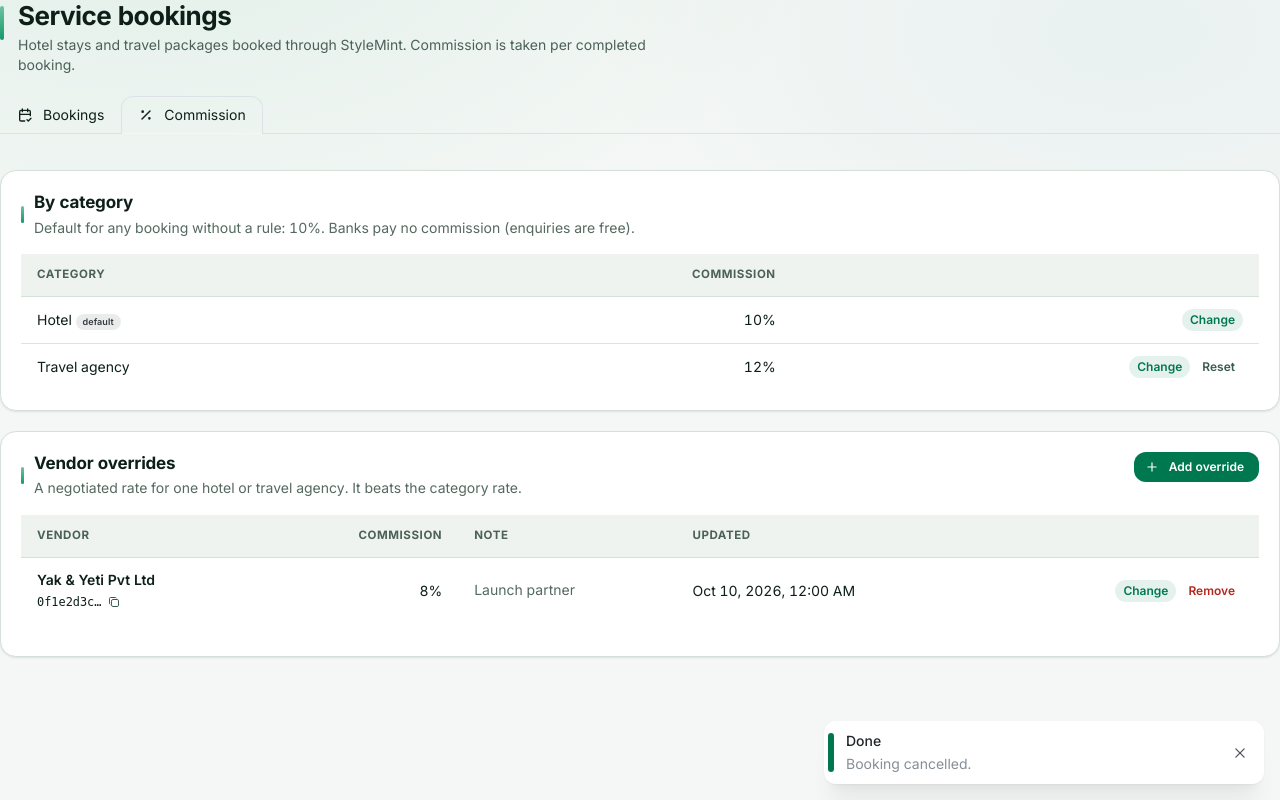
commission settings › shows the category rates and vendor overrides and changes a category
Check: the row with test id "commission-category-1" shows "Hotel", box [37, 311, 72, 328]
Check: the row with test id "commission-category-1" shows "10%", box [21, 296, 1259, 343]
Click the 1st button "Change" at (1212, 320), box [1182, 309, 1243, 331]
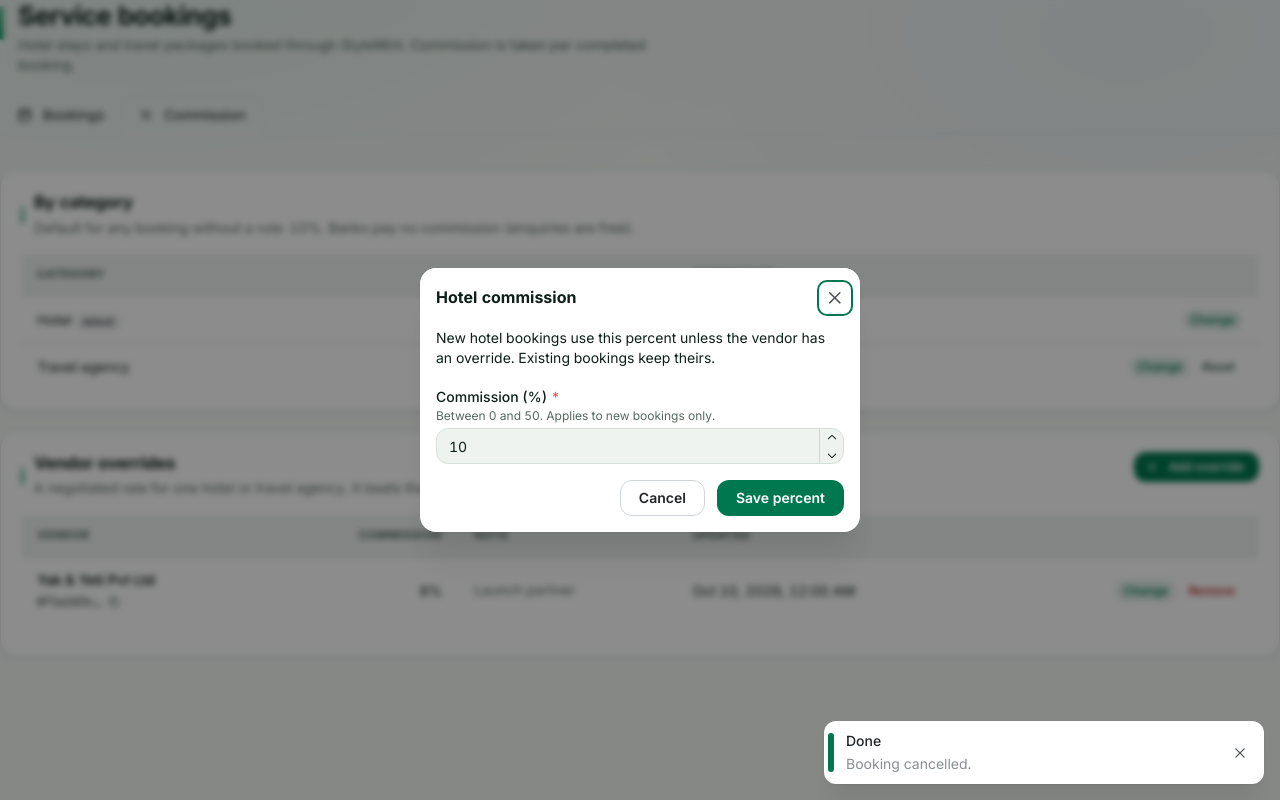
Replace the text in the field labelled "Commission (%) *" with "12" at (640, 446), box [436, 428, 844, 464]
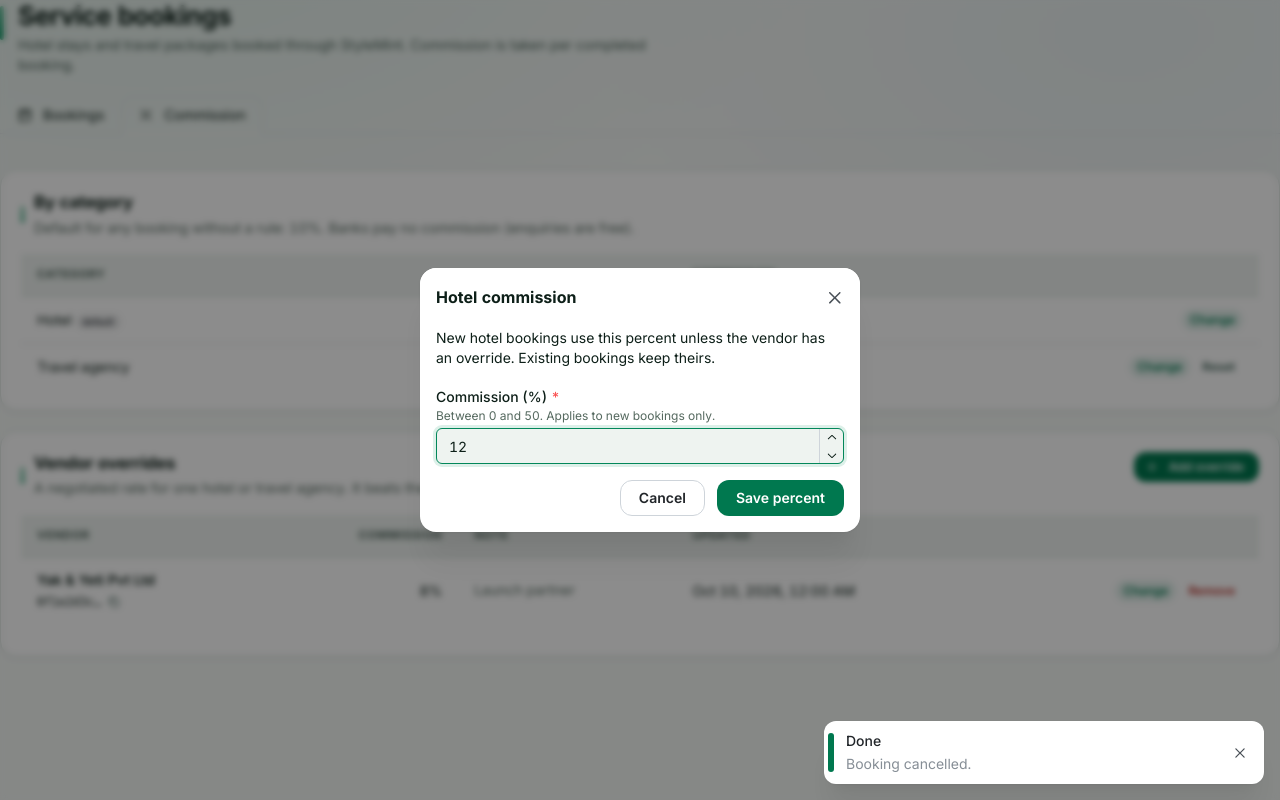
Click the button "Save percent" at (780, 498), box [717, 480, 844, 516]
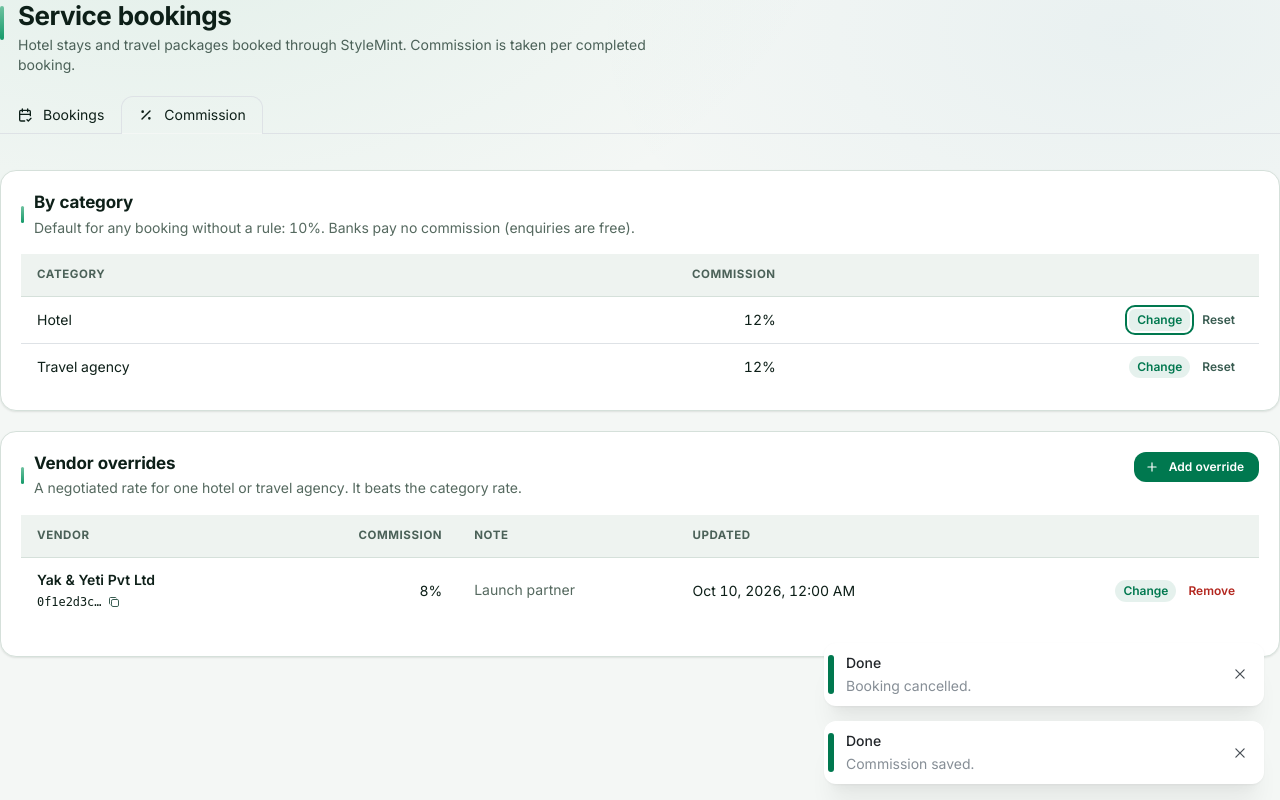
Check: the row with test id "commission-category-1" shows "12%", box [21, 296, 1259, 343]
